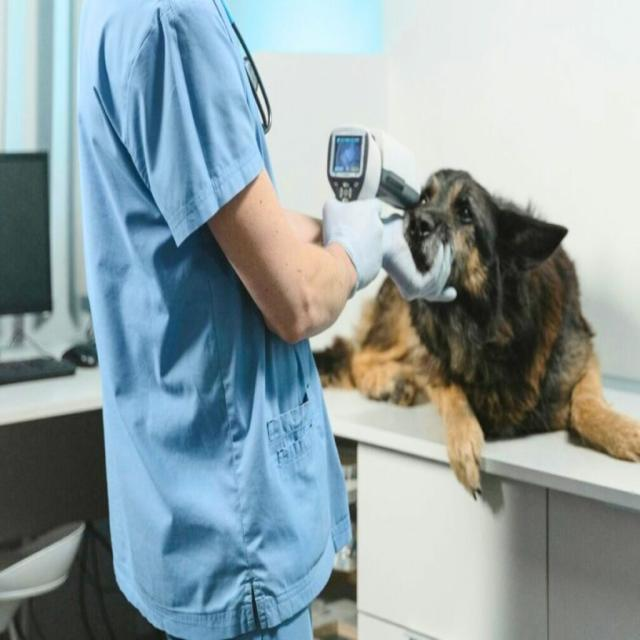GERMAN_SHEPHERD: (319, 140, 640, 500)
